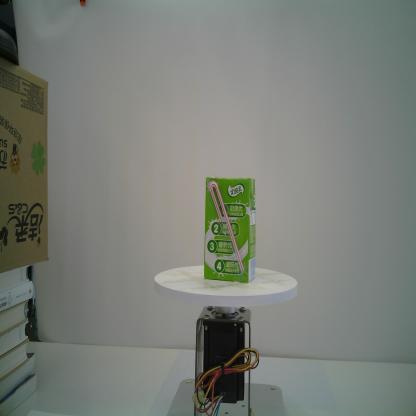Milk: (204, 176, 257, 283)
